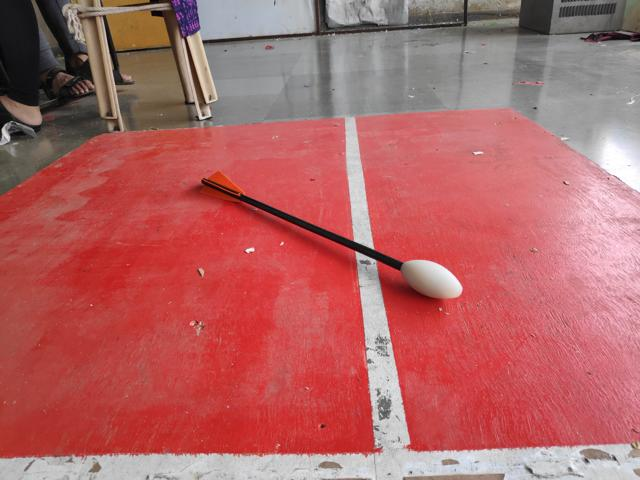Head: (398, 256, 468, 302)
